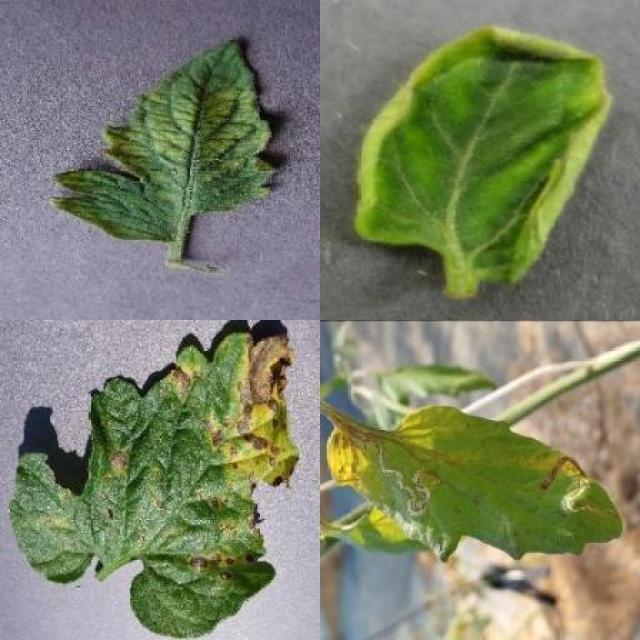Leaf Miner: (322, 399, 624, 564)
Mosaic Virus: (49, 36, 278, 244)
Septoria: (9, 328, 296, 640)
Yellow Leaf Curl Virus: (354, 23, 609, 286)
